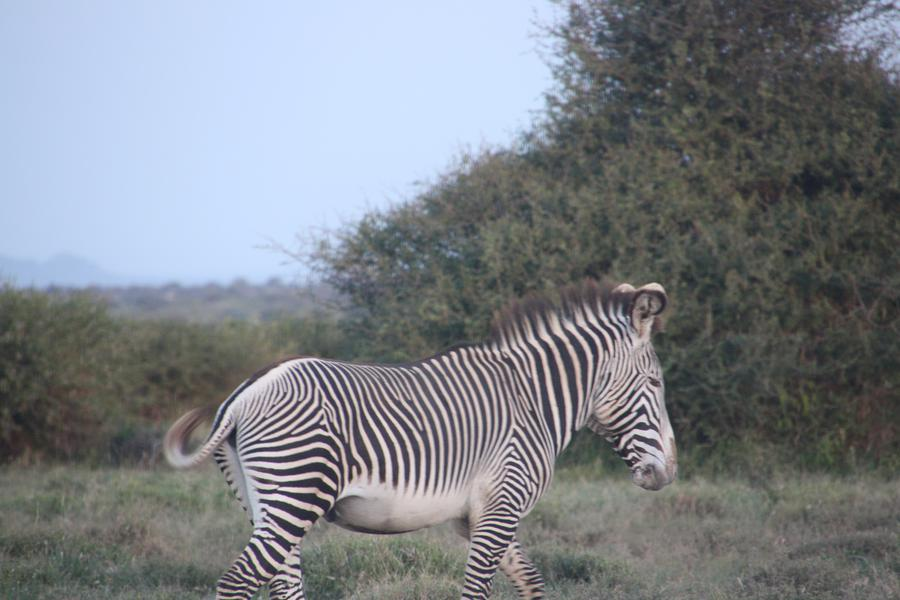zebra_grevys: (230, 360, 549, 509)
